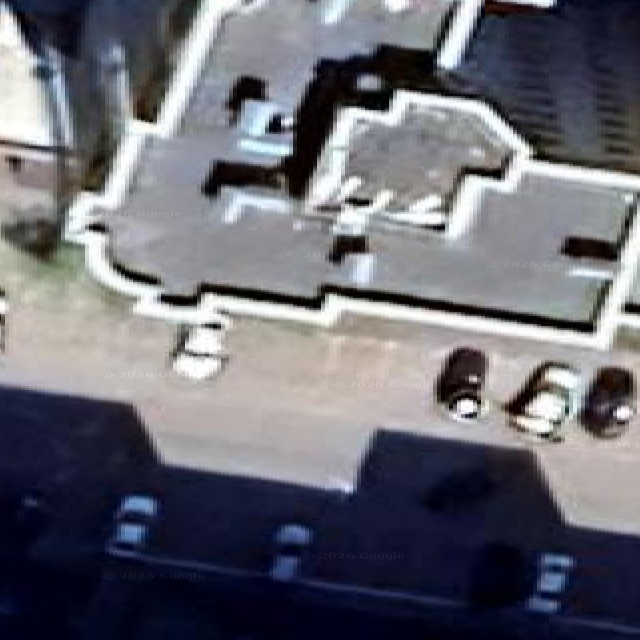car: (507, 364, 580, 440), (467, 542, 535, 607), (580, 367, 635, 437), (435, 347, 486, 420), (422, 467, 496, 512), (172, 322, 227, 379), (0, 204, 59, 256), (108, 493, 156, 551), (526, 552, 572, 612), (268, 523, 312, 580), (381, 192, 446, 227), (12, 486, 52, 540), (327, 233, 367, 263), (329, 476, 355, 500), (0, 293, 5, 352)
